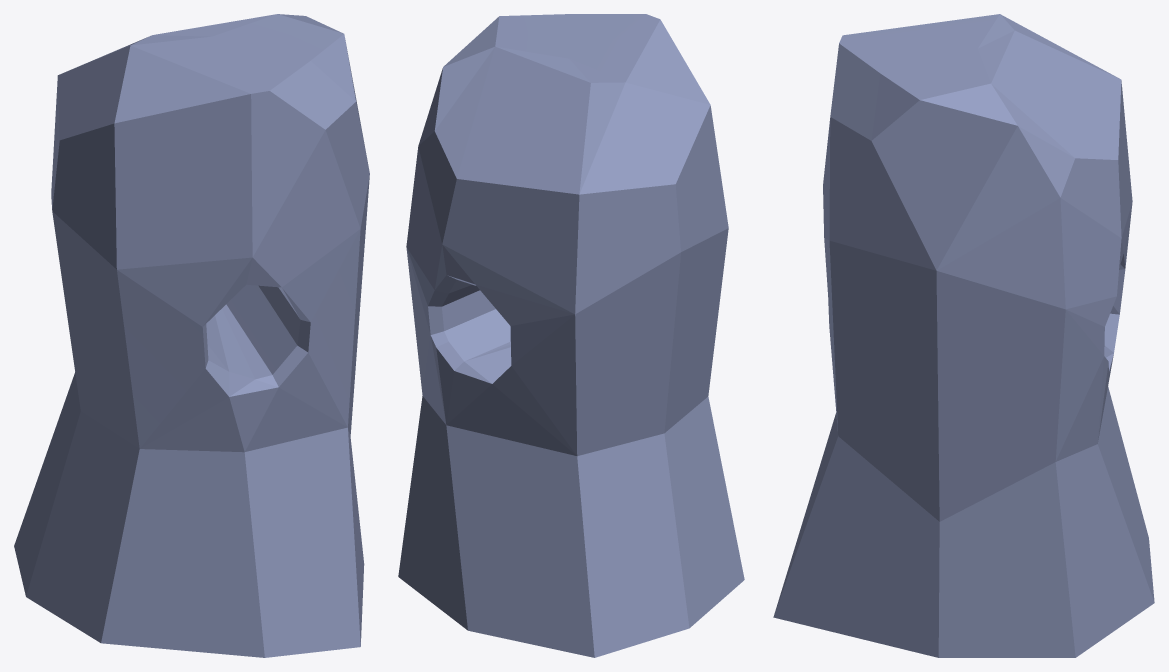
The model's file is Rock_1.fbx.
3 renders of one model, left to right at view 1: azimuth 30°, elevation 25°; view 2: azimuth 150°, elevation 25°; view 3: azimuth 270°, elevation 25°, orthographic. The views are drawn at different scales.
Visible parts, largest first — view 1: Rock_1; view 2: Rock_1; view 3: Rock_1.
Part boxes in pixels (left/top/right/bottom): Rock_1: left=14, top=14, right=369, bottom=657; Rock_1: left=398, top=14, right=744, bottom=657; Rock_1: left=773, top=14, right=1154, bottom=657.
Bounding box in the file's own units: 1.68 × 3 × 1.89.
